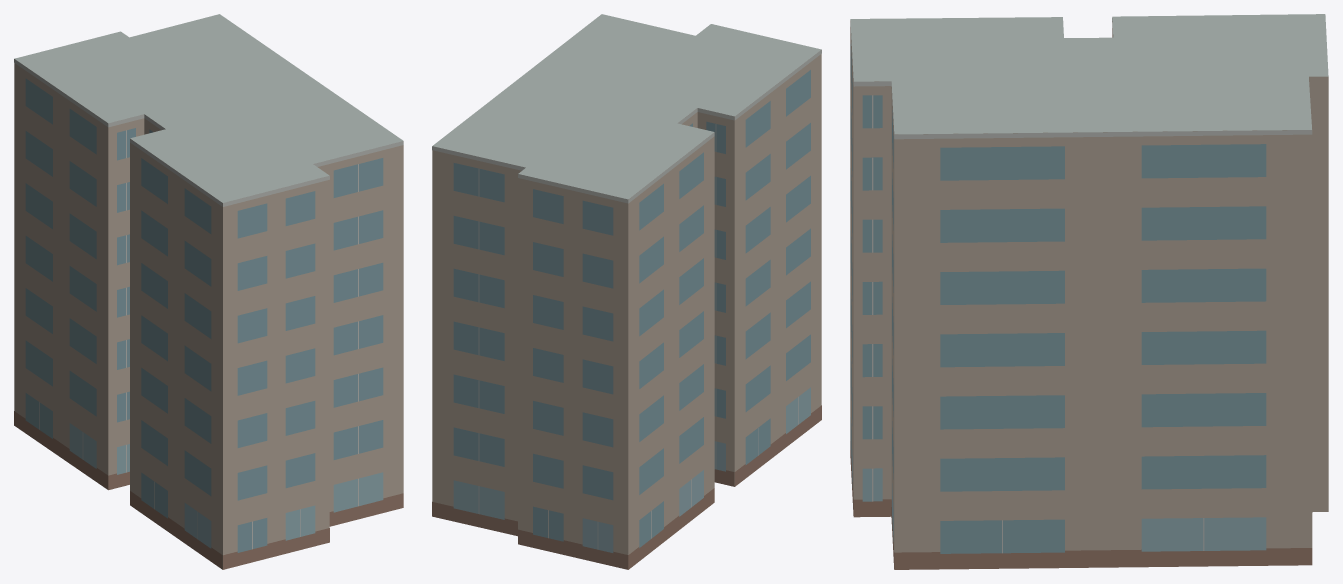
The model's file is survey-upis-32645975.glb.
The picture shows the model from 3 angles, left to right: view 1: azimuth 30°, elevation 25°; view 2: azimuth 150°, elevation 25°; view 3: azimuth 270°, elevation 25°; orthographic projection. The views are drawn at different scales.
Parts seen in each view (by area): view 1: survey-upis-32645975.tmp; view 2: survey-upis-32645975.tmp; view 3: survey-upis-32645975.tmp.
Part boxes in pixels (x1,y1,x2,y2): survey-upis-32645975.tmp: (14,14,403,569); survey-upis-32645975.tmp: (432,14,821,569); survey-upis-32645975.tmp: (850,14,1328,569).
Bounding box in the file's own units: 13.12 × 22.1 × 22.
